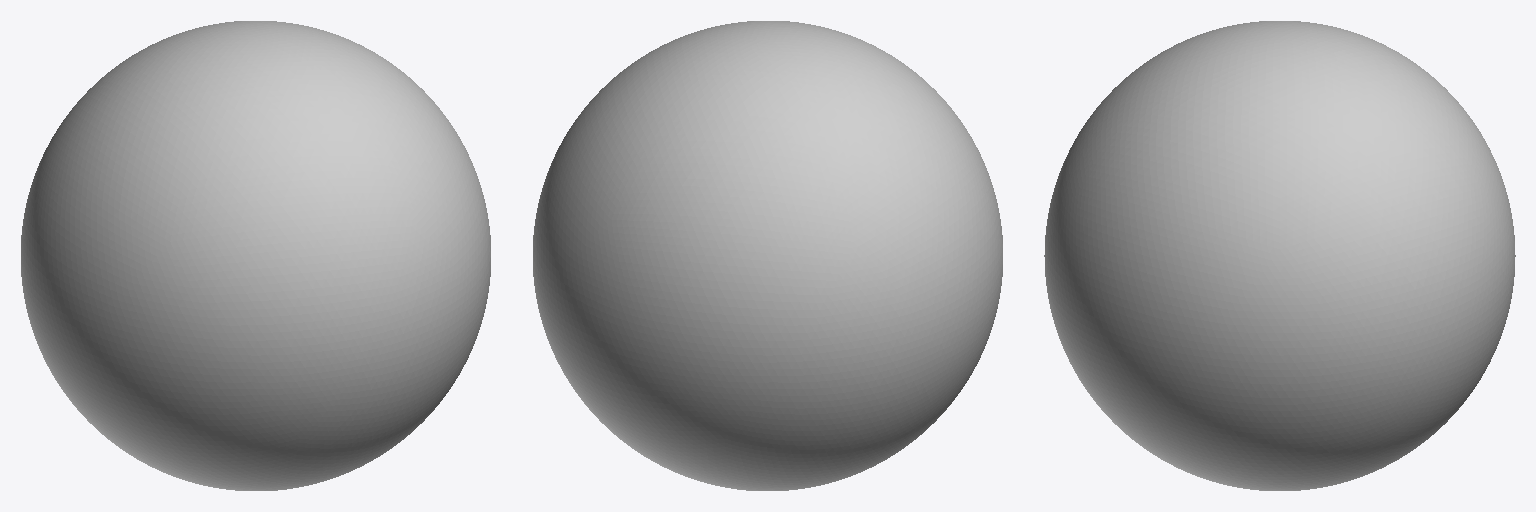
The model's file is sphereHD.obj.
3 renders of one model, left to right at view 1: azimuth 30°, elevation 25°; view 2: azimuth 150°, elevation 25°; view 3: azimuth 270°, elevation 25°, orthographic.
Visible parts, largest first — view 1: Icosphere; view 2: Icosphere; view 3: Icosphere.
Part boxes in pixels (x1,y1,x2,y2): Icosphere: (21, 21, 490, 490); Icosphere: (533, 21, 1002, 490); Icosphere: (1044, 21, 1515, 490).
Bounding box in the file's own units: 2 × 2 × 2.